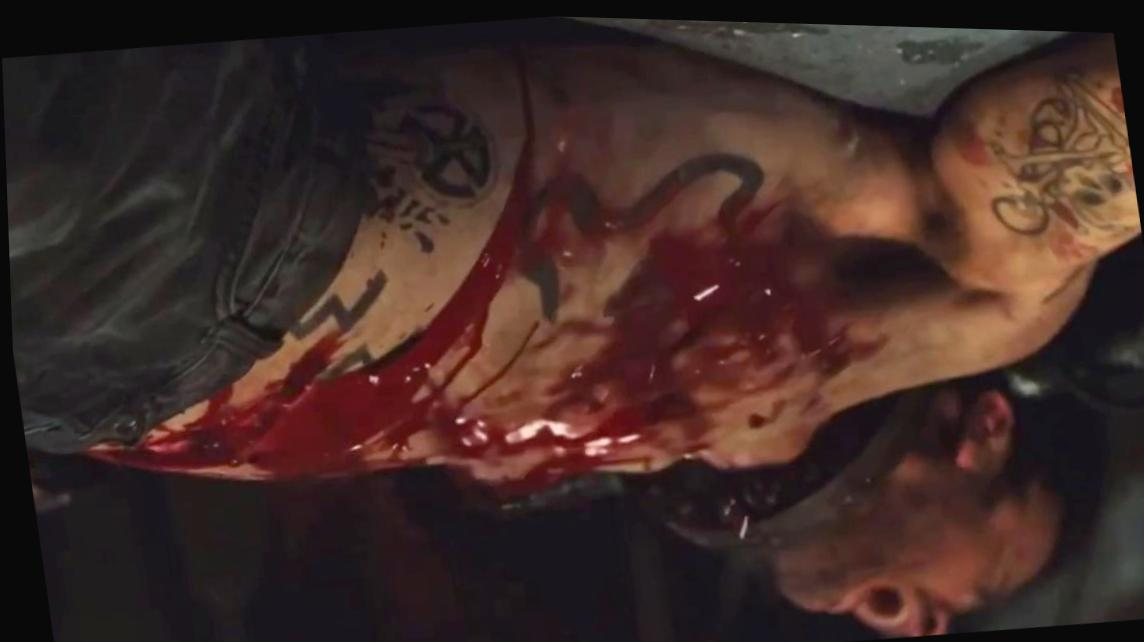Fire: (104, 120, 949, 478)
